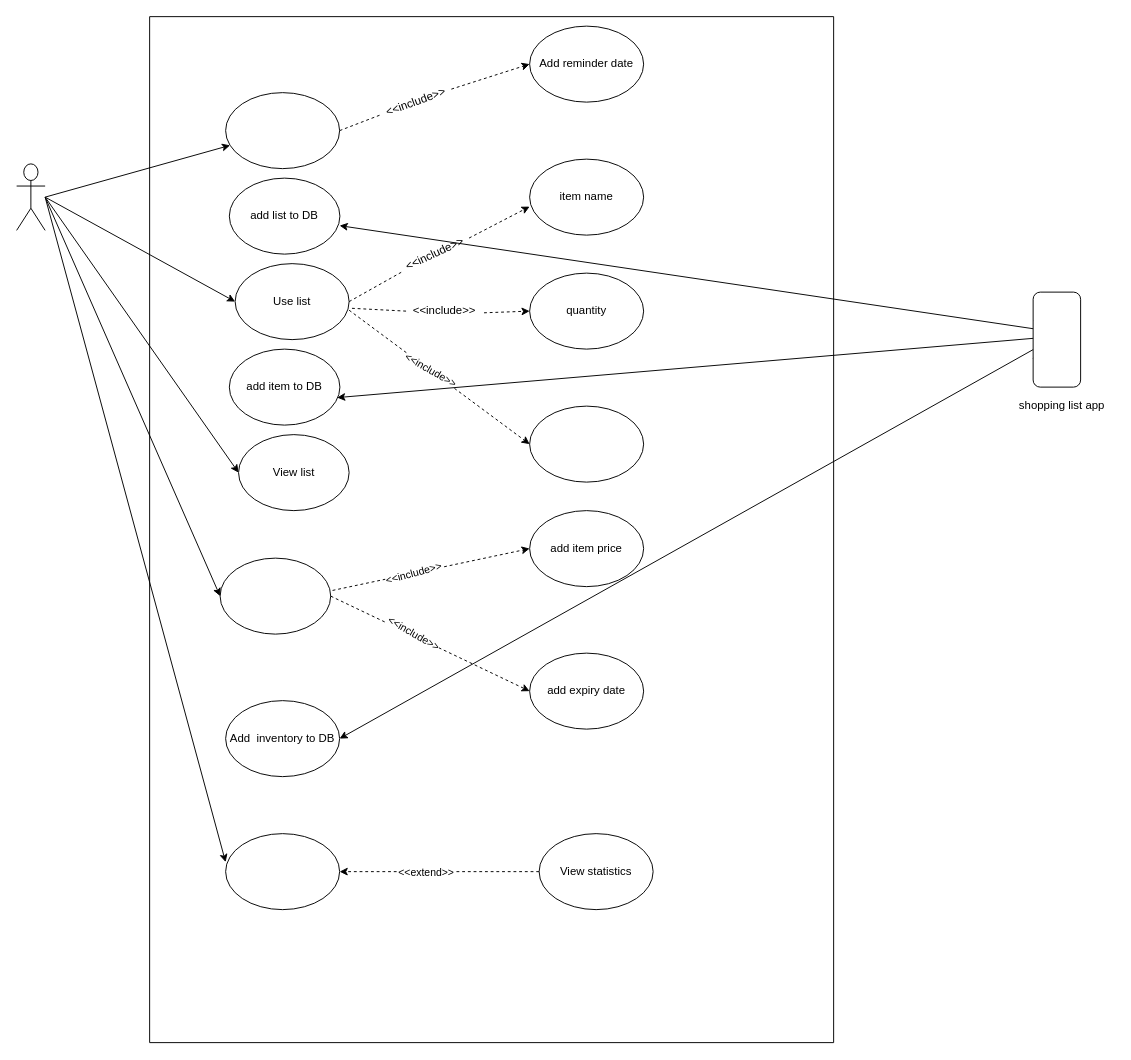
The diagram is 1131 pixels wide and 1060 high, and some of its shapes have lost their labels. The shapes that lost their labels are listed below. From the top down, each one's centre as x and y in pixels, then its label:
At point (282, 130): "Create new list".
At point (30, 196): "User".
At point (586, 443): "category".
At point (275, 595): "Add to inventory".
At point (282, 871): "View inventory".
